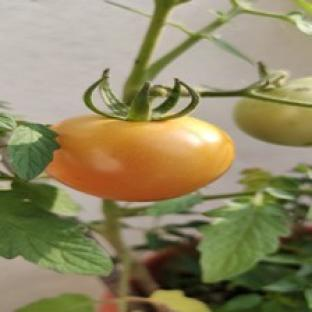Tomato: (46, 115, 233, 201), (234, 98, 311, 146), (98, 292, 118, 311)
